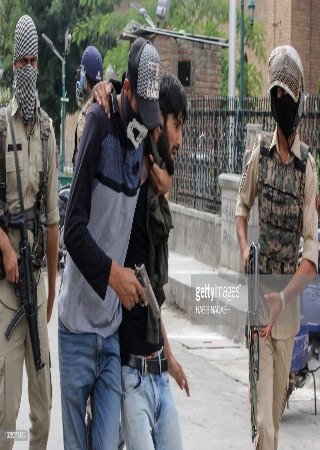handgun: (130, 258, 166, 319)
